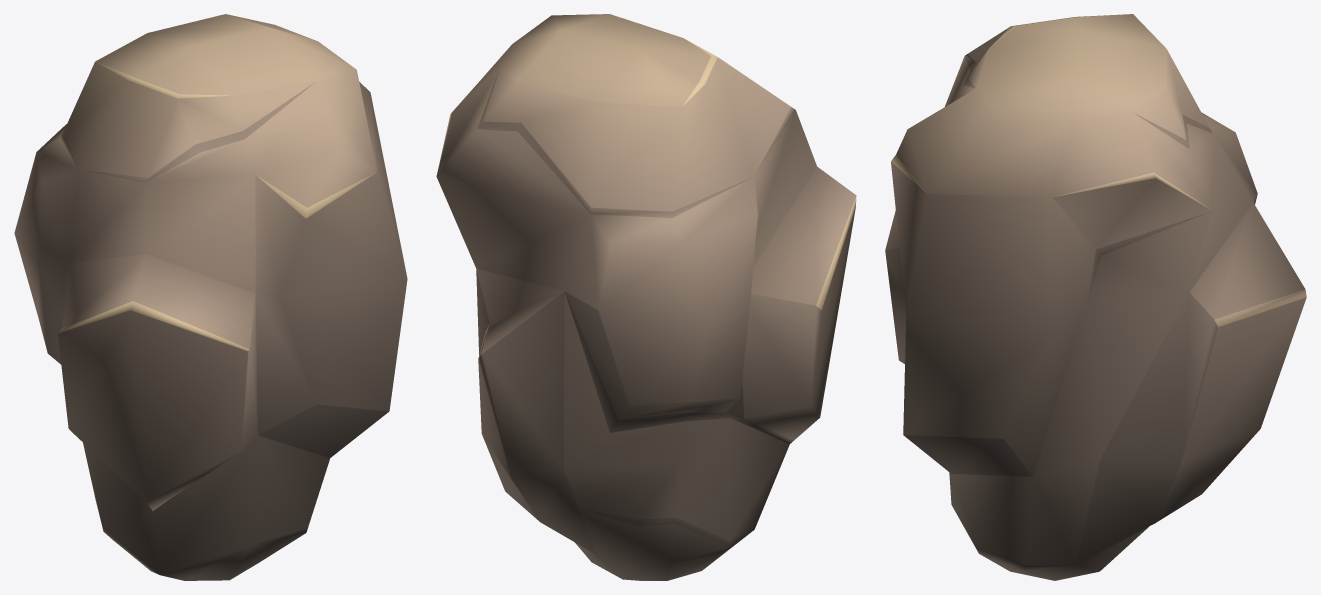
Rendered from rockMid_B.fbx.
3 views of the same model, side by side, from view 1: azimuth 30°, elevation 25°; view 2: azimuth 150°, elevation 25°; view 3: azimuth 270°, elevation 25° (orthographic). The views are drawn at different scales.
Parts seen in each view (by area): view 1: rockMid_B; view 2: rockMid_B; view 3: rockMid_B.
Boxes of the visible parts, bbox=[...] form: rockMid_B: bbox=[14, 14, 407, 580]; rockMid_B: bbox=[436, 14, 856, 580]; rockMid_B: bbox=[885, 14, 1306, 580].
Size of the model in its own units: 275 by 422 by 298.
